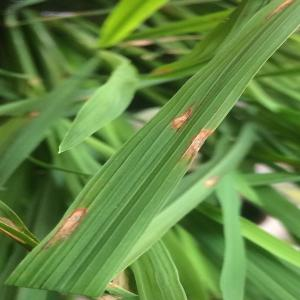Rice_Blast: (18, 196, 104, 251), (176, 124, 221, 166), (150, 94, 201, 131)
